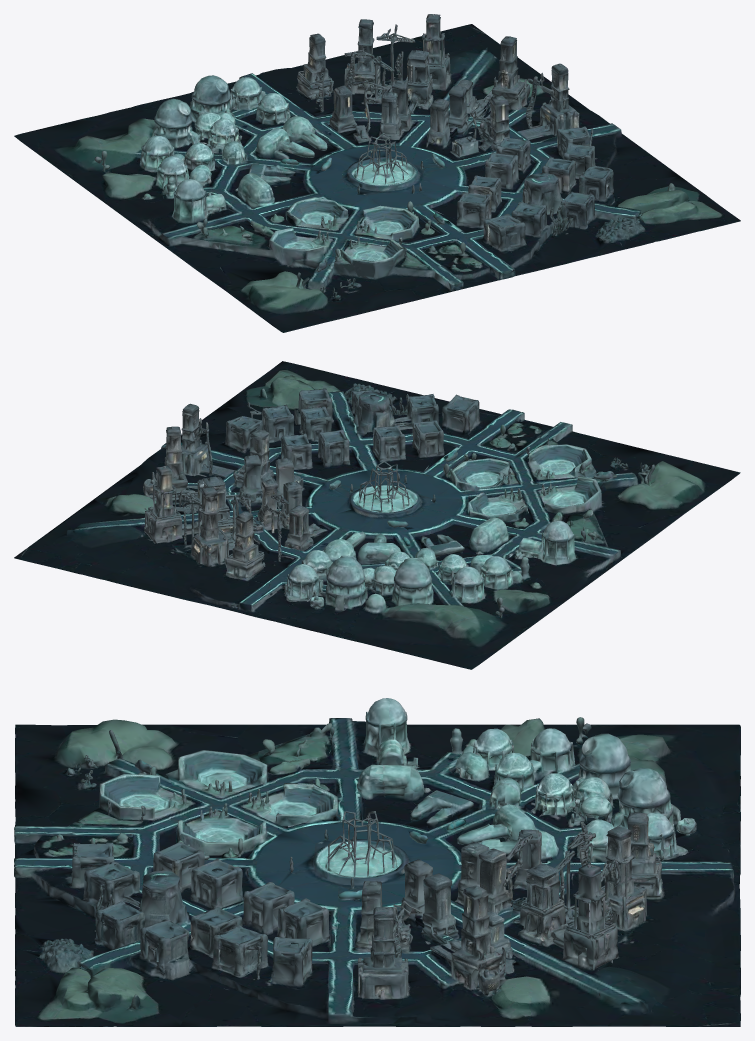
Rendered from city.glb.
3 renders of one model, top to bottom at view 1: azimuth 30°, elevation 25°; view 2: azimuth 150°, elevation 25°; view 3: azimuth 270°, elevation 25°, orthographic. The views are drawn at different scales.
Size of the model in its own units: 1.9 by 0.2962 by 1.94.
Materials: 1 (1 with a texture image).
